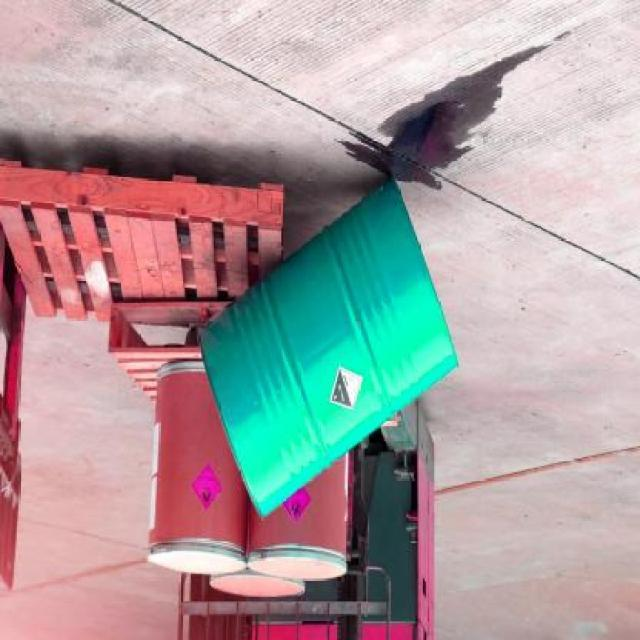spillage: (338, 58, 519, 189)
